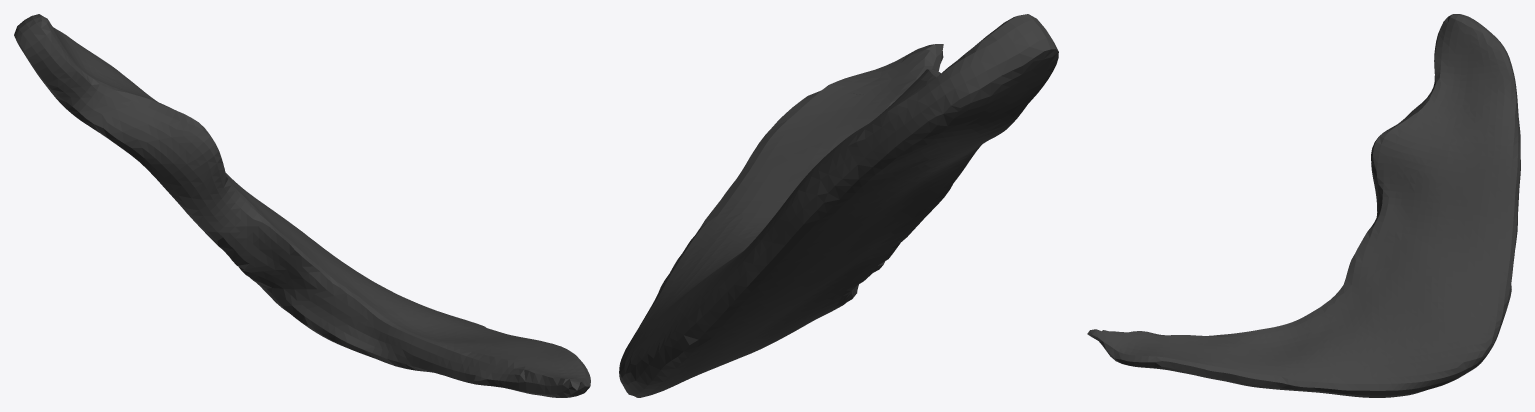
File: canine_cardiac_valve_leaflet.glb
3 views of the same model, side by side, from view 1: azimuth 30°, elevation 25°; view 2: azimuth 150°, elevation 25°; view 3: azimuth 270°, elevation 25° (orthographic). The views are drawn at different scales.
Visible parts, largest first — view 1: canine_cardiac_valve_leaflet; view 2: canine_cardiac_valve_leaflet; view 3: canine_cardiac_valve_leaflet.
Boxes of the visible parts, left/top/right/bottom form: canine_cardiac_valve_leaflet: left=14, top=14, right=590, bottom=397; canine_cardiac_valve_leaflet: left=619, top=14, right=1058, bottom=397; canine_cardiac_valve_leaflet: left=1087, top=14, right=1520, bottom=397.
Size of the model in its own units: 0.0223 by 0.0202 by 0.0294.
1 material, 1 textured.
